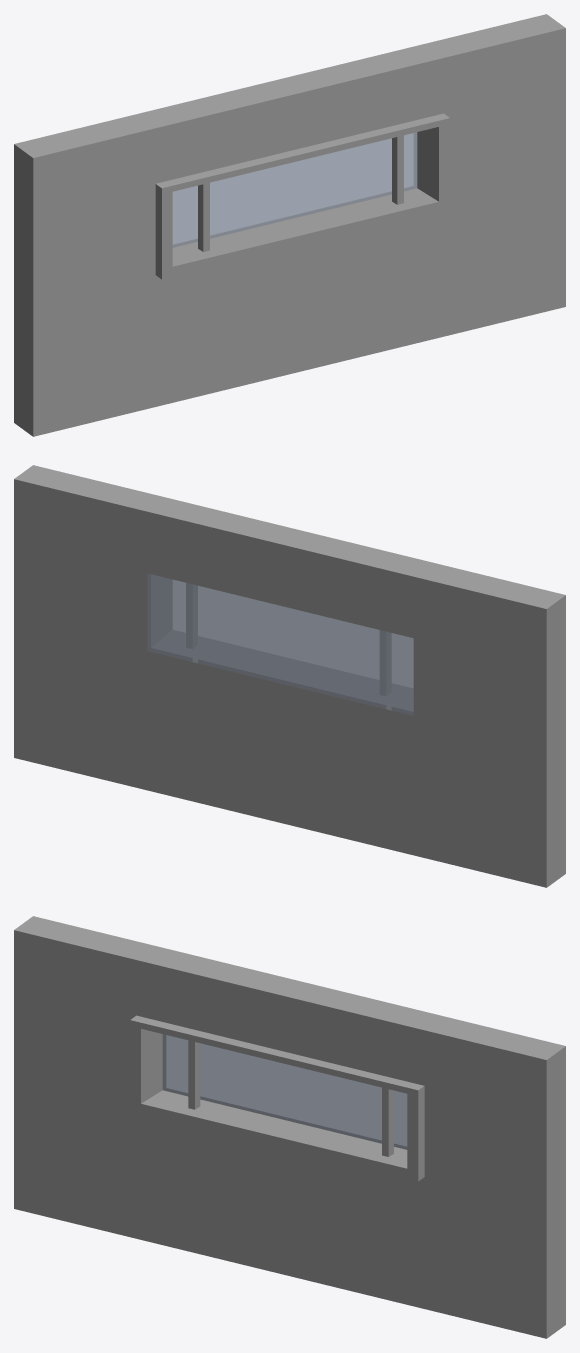
Rendered from MuroFinestra (1).fbx.
The picture shows the model from 3 angles, top to bottom: view 1: azimuth 30°, elevation 25°; view 2: azimuth 150°, elevation 25°; view 3: azimuth 330°, elevation 25°; orthographic projection.
Parts seen in each view (by area): view 1: SM_Parete_di_base_finestra_uv_ok; view 2: SM_Parete_di_base_finestra_uv_ok; view 3: SM_Parete_di_base_finestra_uv_ok.
Boxes of the visible parts, x1,y1,x2,y2 form: SM_Parete_di_base_finestra_uv_ok: [14, 14, 565, 436]; SM_Parete_di_base_finestra_uv_ok: [14, 465, 565, 887]; SM_Parete_di_base_finestra_uv_ok: [14, 916, 565, 1338].
Bounding box in the file's own units: 0.04 × 0.02 × 0.0033.
